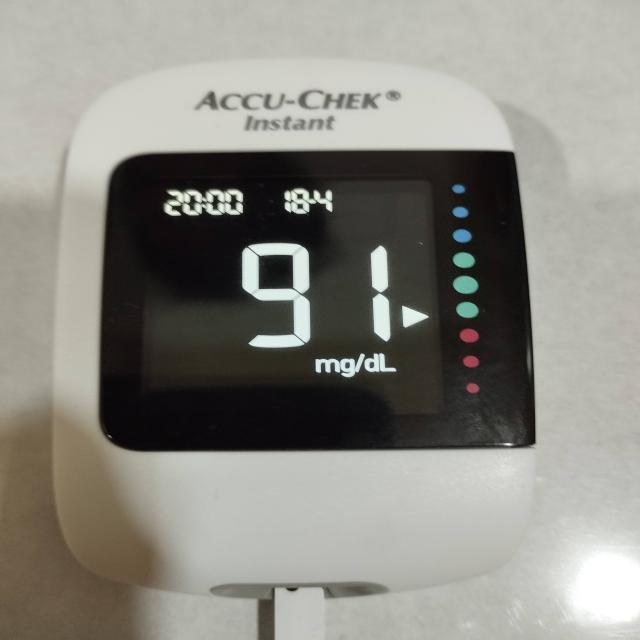gluco: (51, 59, 539, 610)
